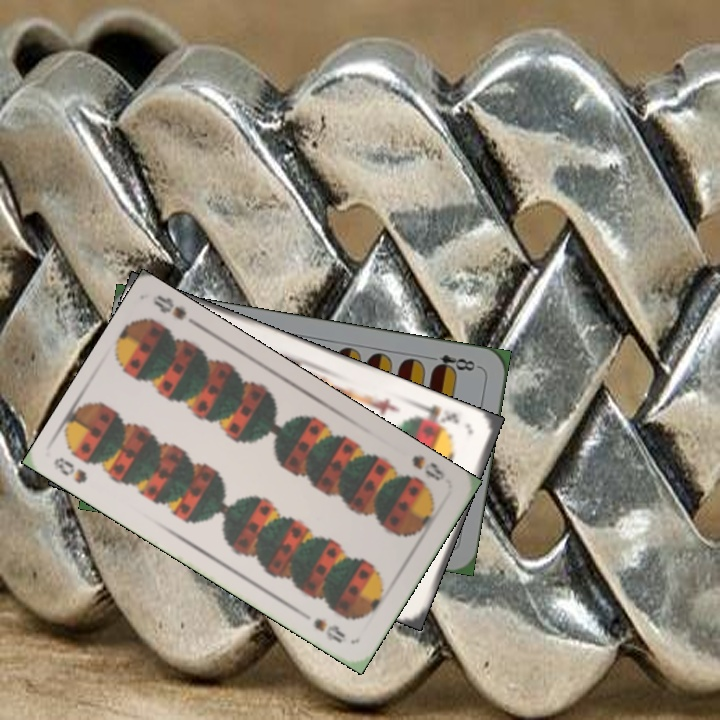E8: (423, 350, 482, 376)
S8: (49, 453, 90, 487), (408, 451, 448, 484)
SK: (413, 401, 462, 432)
